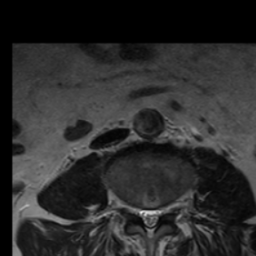CCS_normal: (145, 200, 154, 242)
LFS_normal: (163, 197, 171, 220)
LLS_normal: (154, 201, 162, 228)
RFS_normal: (128, 196, 138, 224)
RLS_normal: (136, 203, 145, 228)
